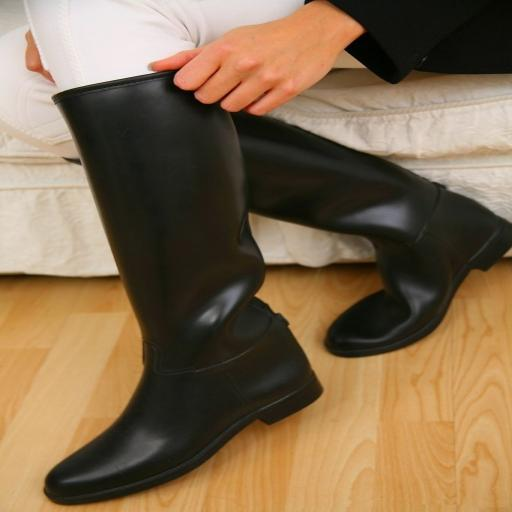boots: (45, 72, 322, 504), (233, 113, 512, 357)
